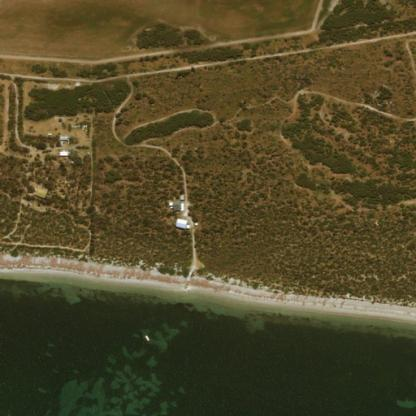ship: (143, 334, 148, 340)
